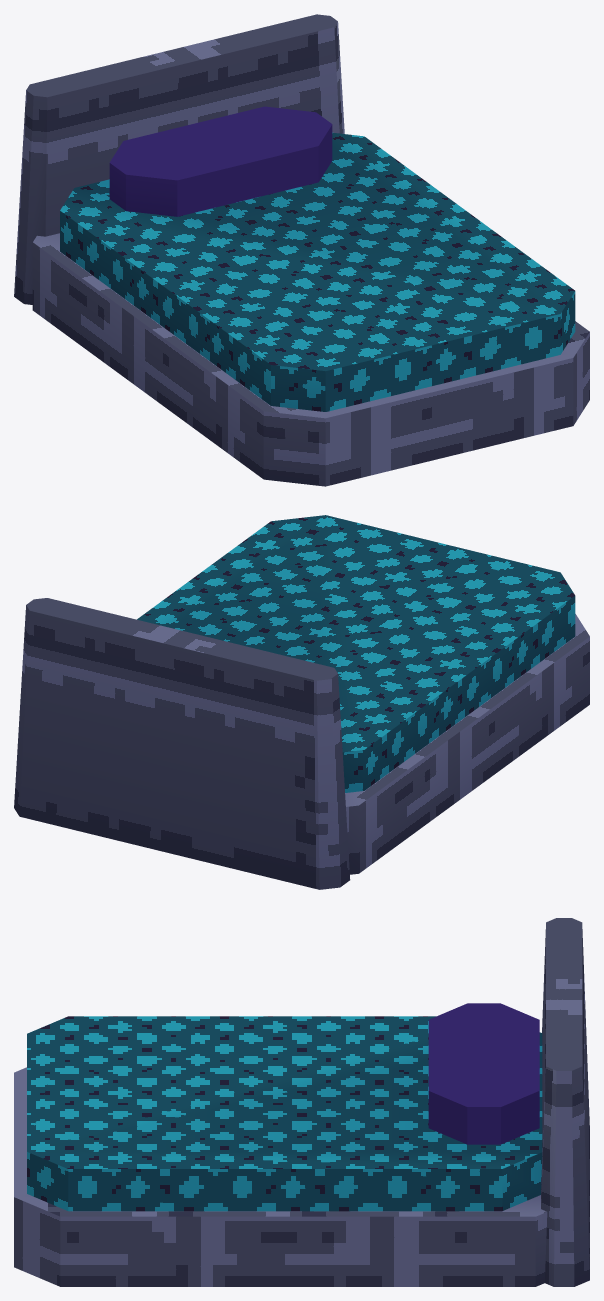
Rendered from cyroom.bed.glb.
The picture shows the model from 3 angles, top to bottom: view 1: azimuth 30°, elevation 25°; view 2: azimuth 150°, elevation 25°; view 3: azimuth 270°, elevation 25°; orthographic projection. The views are drawn at different scales.
Visible parts, largest first — view 1: kit_body; view 2: kit_body; view 3: kit_body.
Part boxes in pixels (left/top/right/bottom): kit_body: left=14, top=14, right=589, bottom=486; kit_body: left=14, top=515, right=589, bottom=889; kit_body: left=14, top=918, right=589, bottom=1286.
Bounding box in the file's own units: 1.5 × 0.9 × 2.23.
4 materials, 4 textured.
